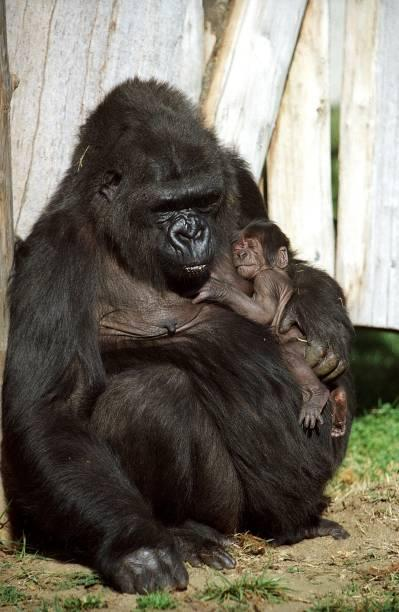gorille_Autres: (0, 70, 396, 559)
